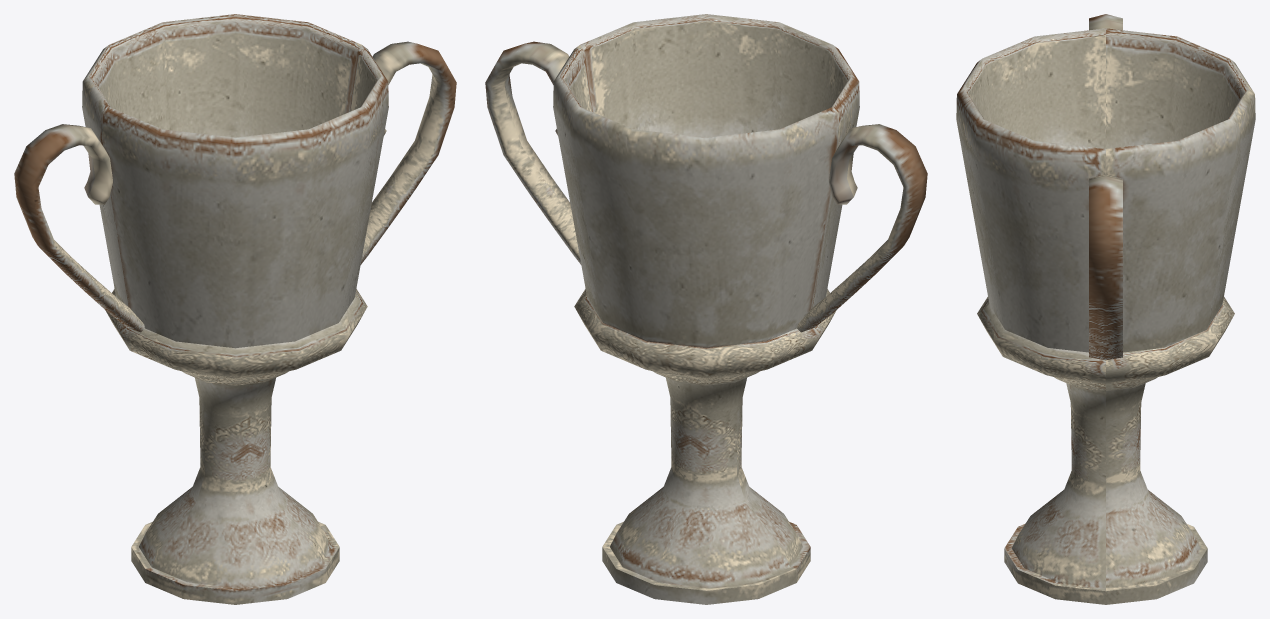
The model's file is copaGenerica1b.FBX.
The picture shows the model from 3 angles, left to right: view 1: azimuth 30°, elevation 25°; view 2: azimuth 150°, elevation 25°; view 3: azimuth 270°, elevation 25°; orthographic projection. The views are drawn at different scales.
Visible parts, largest first — view 1: copaGenerica1b; view 2: copaGenerica1b; view 3: copaGenerica1b.
Boxes of the visible parts, x1,y1,x2,y2 form: copaGenerica1b: (14, 14, 456, 604); copaGenerica1b: (485, 14, 927, 604); copaGenerica1b: (956, 14, 1255, 604).
Bounding box in the file's own units: 84.08 × 90.27 × 51.73.
